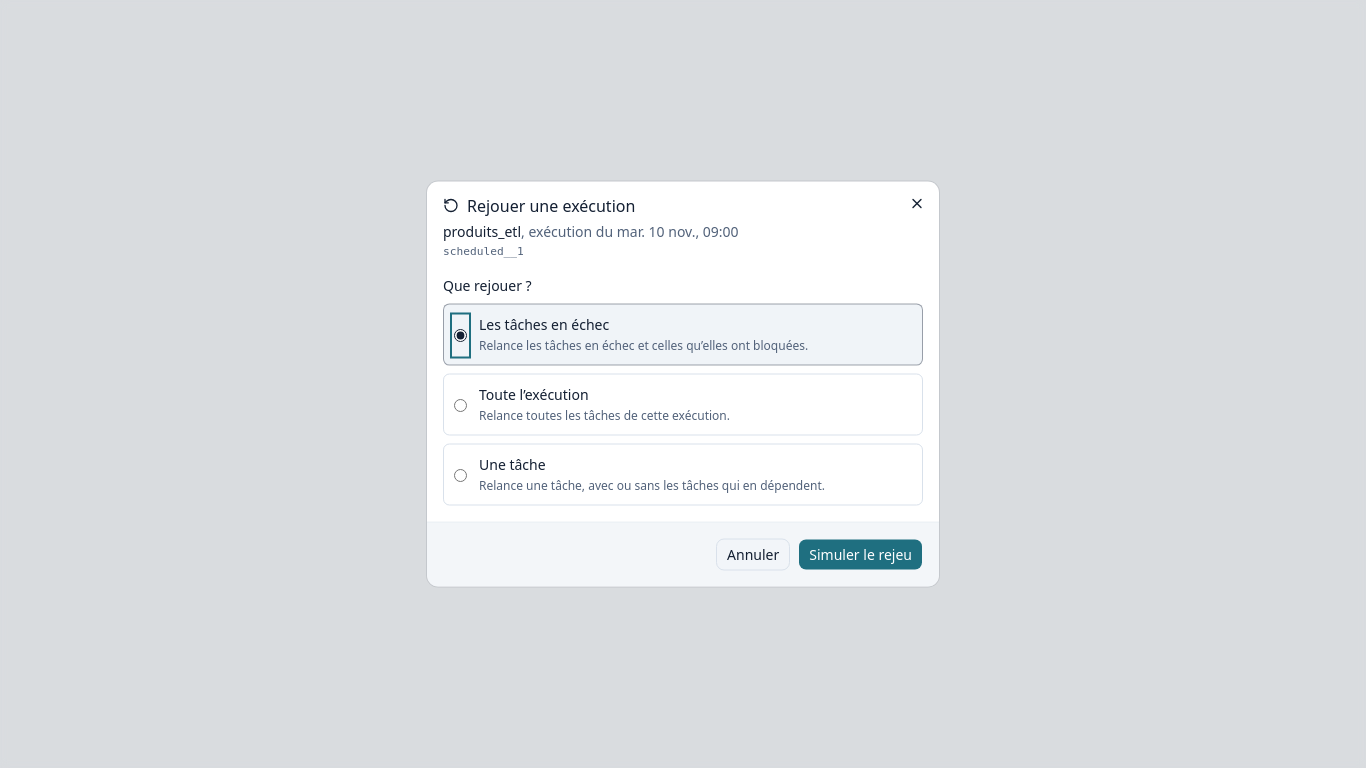
Test case: fenêtre de rejeu › propose les tâches en échec par défaut, simule puis confirme et suit jusqu’au succès
The image size is (1366, 768).
Expected: the radio button labelled "tâches en échec" is checked, 454,316 -> 467,354
Click the button "Simuler le rejeu".
click(861, 554)  # box 798,538 -> 923,570
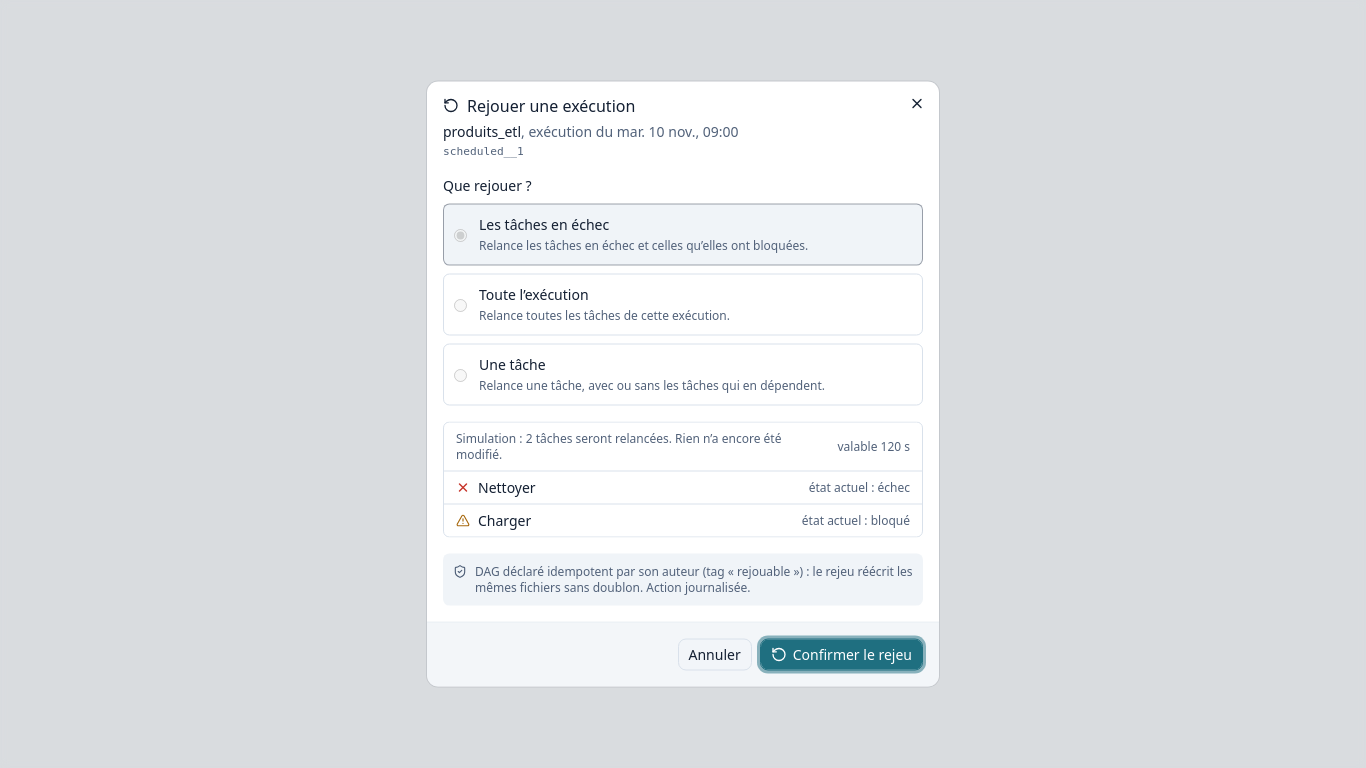
Now the text "2 tâches seront relancées" is shown, box 456,430 -> 830,462
Now the text "valable 120 s" is shown, box 838,438 -> 910,454
Click the button "Confirmer le rejeu".
click(841, 654)  # box 760,638 -> 923,670
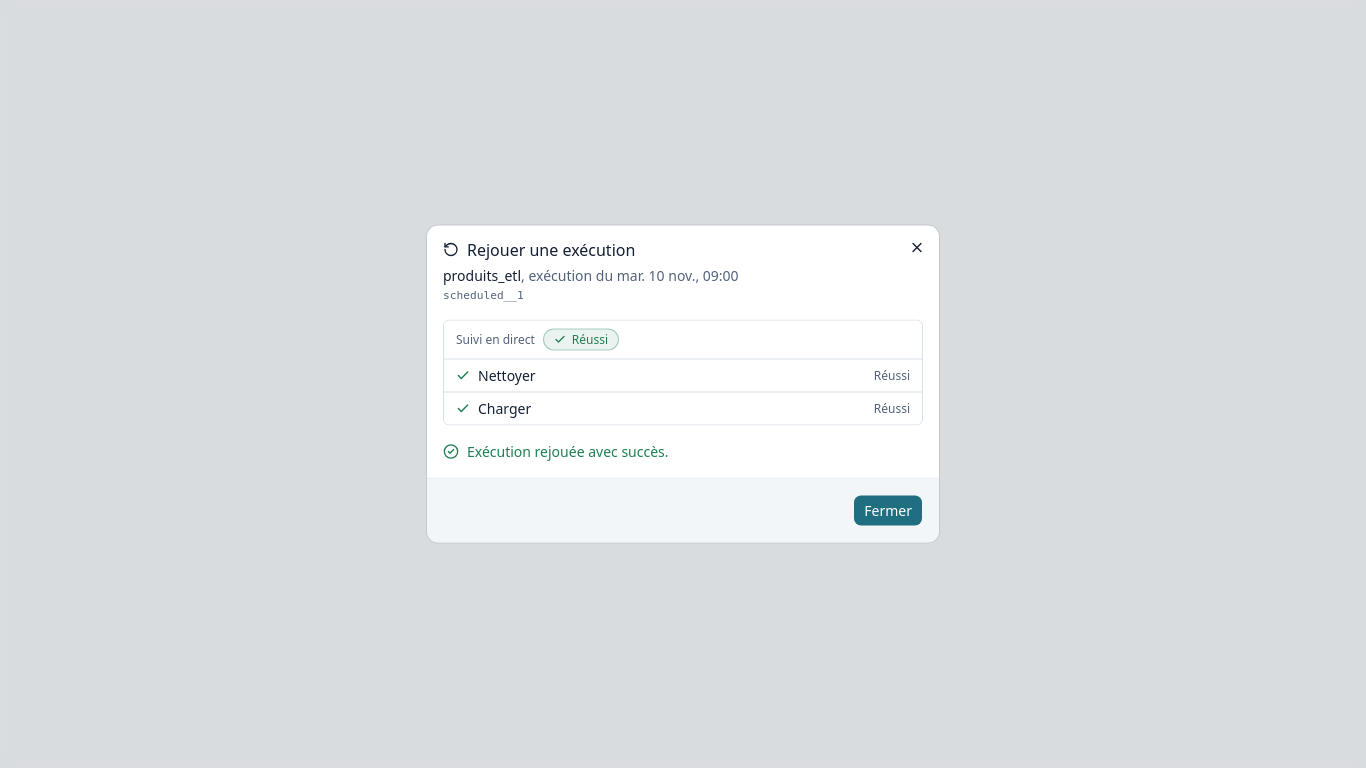
Now the text "Exécution rejouée avec succès." is shown, box 443,442 -> 668,460
